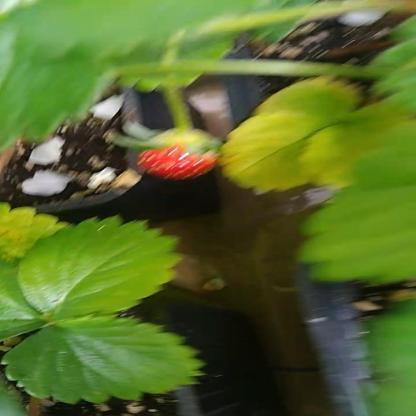ripe: (121, 140, 225, 180)
